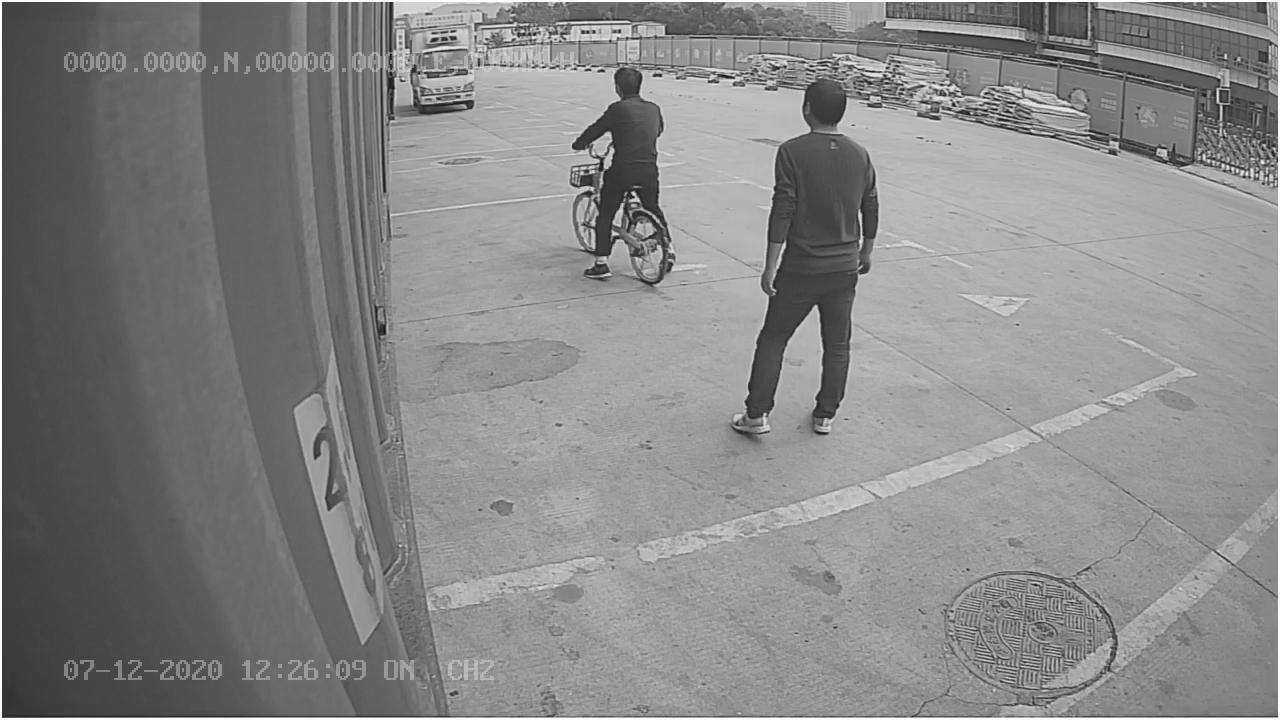person: (725, 71, 885, 439)
